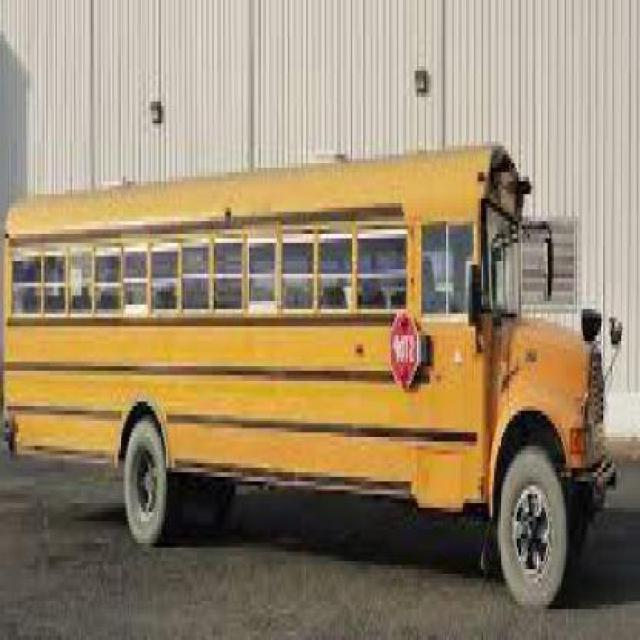bus: (5, 144, 602, 602)
